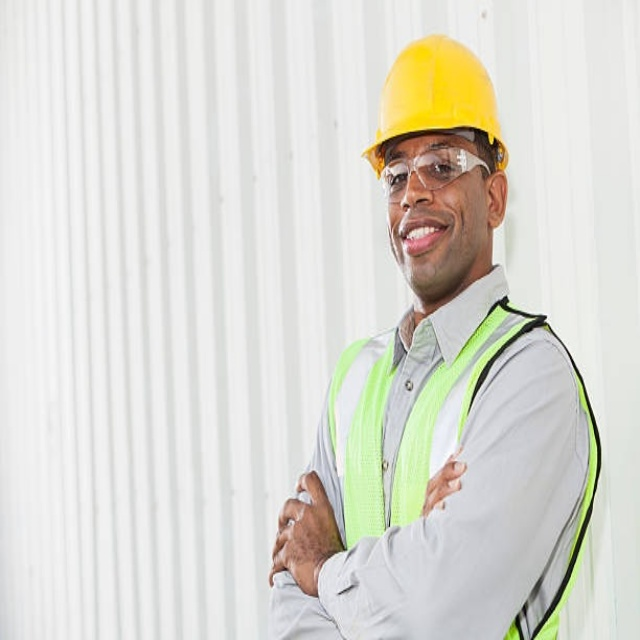Gafas: (377, 144, 492, 201)
Sin_guantes: (271, 469, 344, 598), (421, 456, 468, 521)
Sin_mascara: (392, 210, 450, 262)
